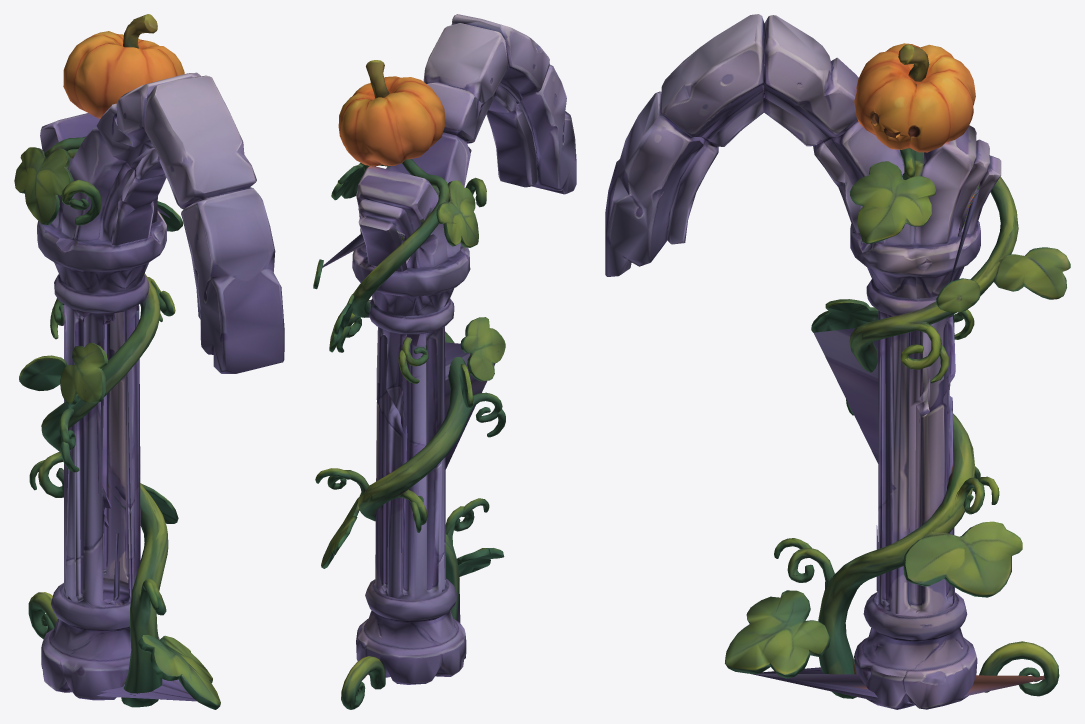
Rendered from L1_ArchColumn_LOD1.fbx.
3 renders of one model, left to right at view 1: azimuth 30°, elevation 25°; view 2: azimuth 150°, elevation 25°; view 3: azimuth 270°, elevation 25°, orthographic. The views are drawn at different scales.
Parts seen in each view (by area): view 1: L1_ArchColumn_LOD1; view 2: L1_ArchColumn_LOD1; view 3: L1_ArchColumn_LOD1.
Part boxes in pixels (x1,y1,x2,y2): L1_ArchColumn_LOD1: (14,14,284,709); L1_ArchColumn_LOD1: (313,14,576,709); L1_ArchColumn_LOD1: (605,14,1070,709).
Bounding box in the file's own units: 2 × 7.5 × 4.73.
Materials: 1 (1 with a texture image).
